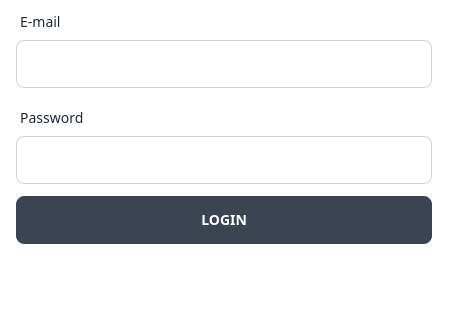
it: Login Component › should NOT be able to login when fields are empty
The width and height of the screenshot is (453, 333).
Click the button "Login": point(224, 220) [16,196,432,244]
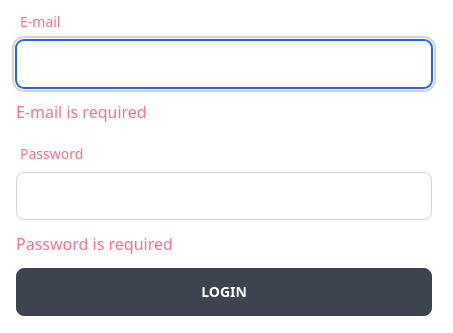
Check: the text "E-mail is required" is shown, box [16,101,147,123]
Check: the text "Password is required" is shown, box [16,233,173,255]
